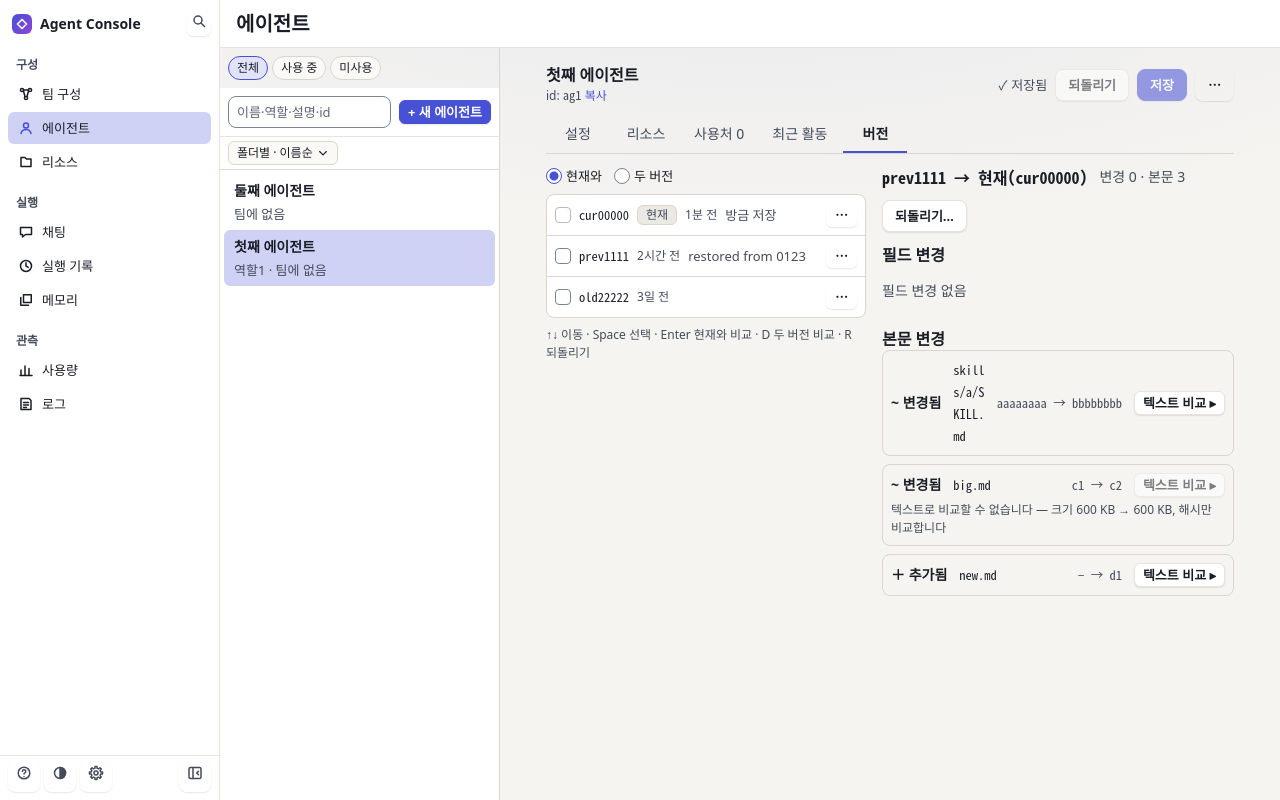
Scenario: 버전 탭: 본문 변경 › 행의 [텍스트 비교]가 두 쪽 파일을 읽어 TextDiff를 펼치고, 큰 파일은 해시만 비교한다
This screenshot has width=1280, height=800.
Expected: the list named "버전 목록" is shown, [546,194,866,318]
Expected: the text "추가됨" is shown, [909,565,947,584]
Click the button "텍스트 비교 ▸" next to "bbbbbbbb".
click(1179, 403)  # box [1134,391,1225,415]
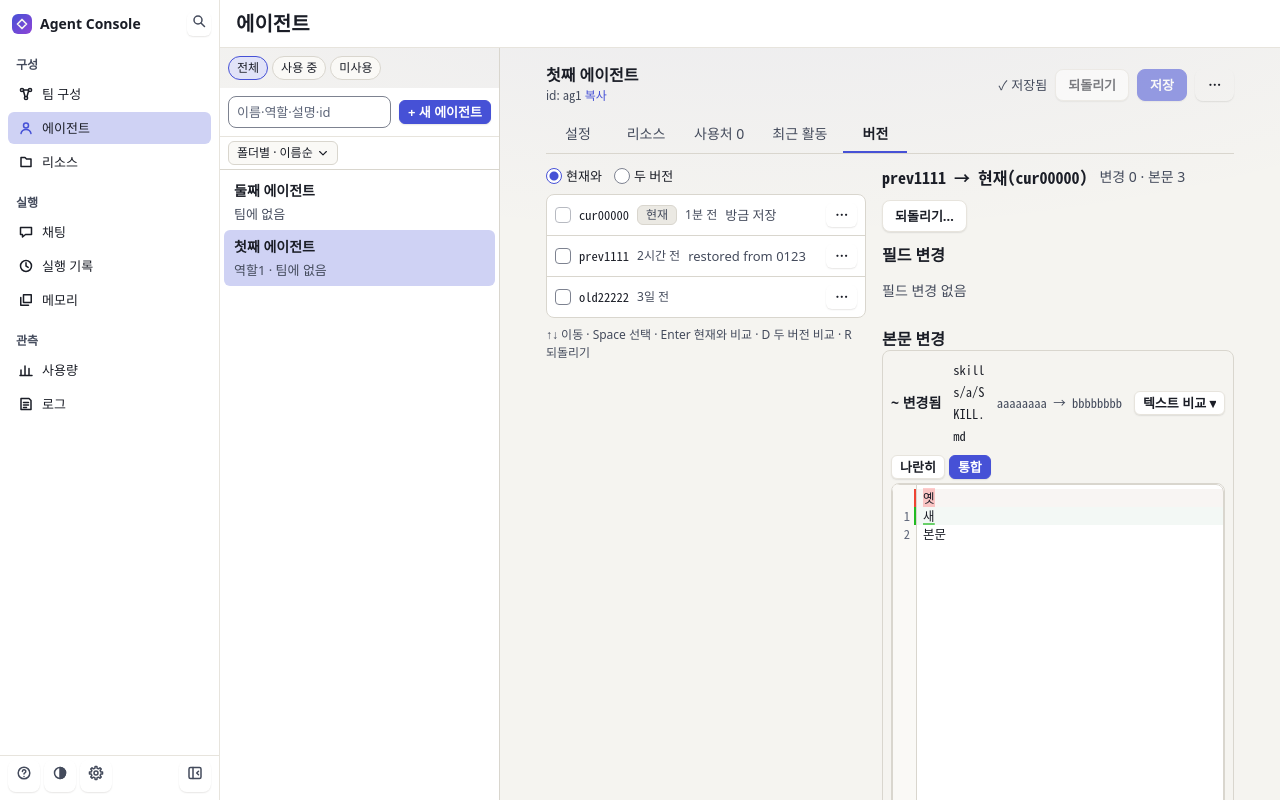
Result: the element named "비교 보기 방식" is shown at [891,455,991,479]
